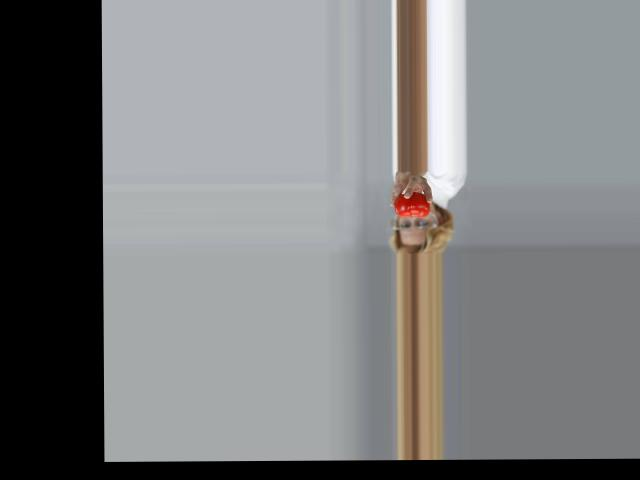tomato: (395, 192, 431, 216)
